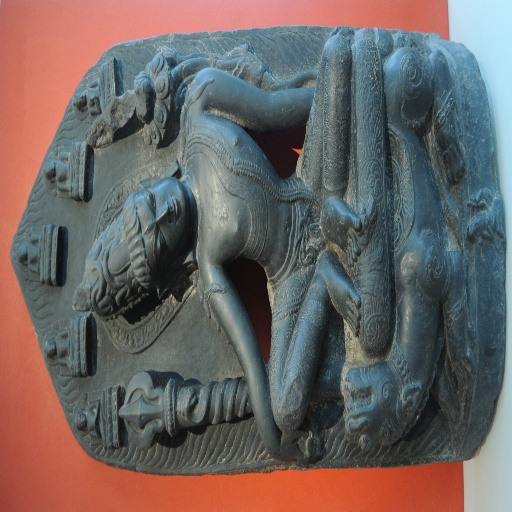hand: (275, 428, 320, 467)
